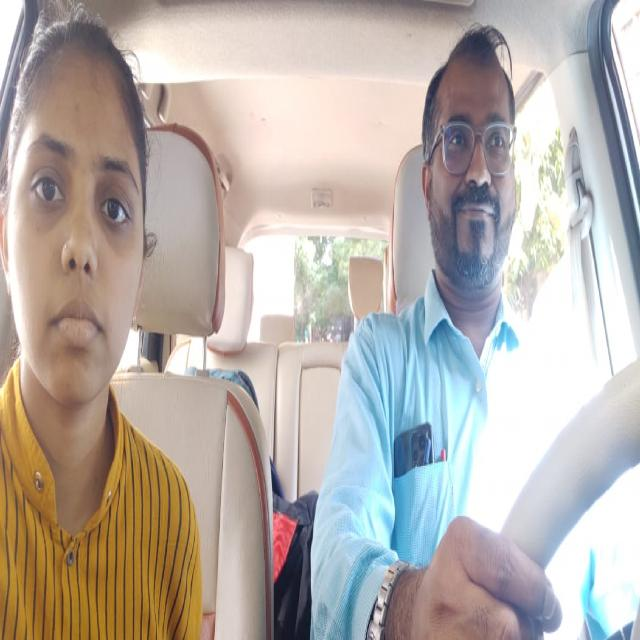person: (6, 43, 148, 415), (422, 44, 521, 296)
